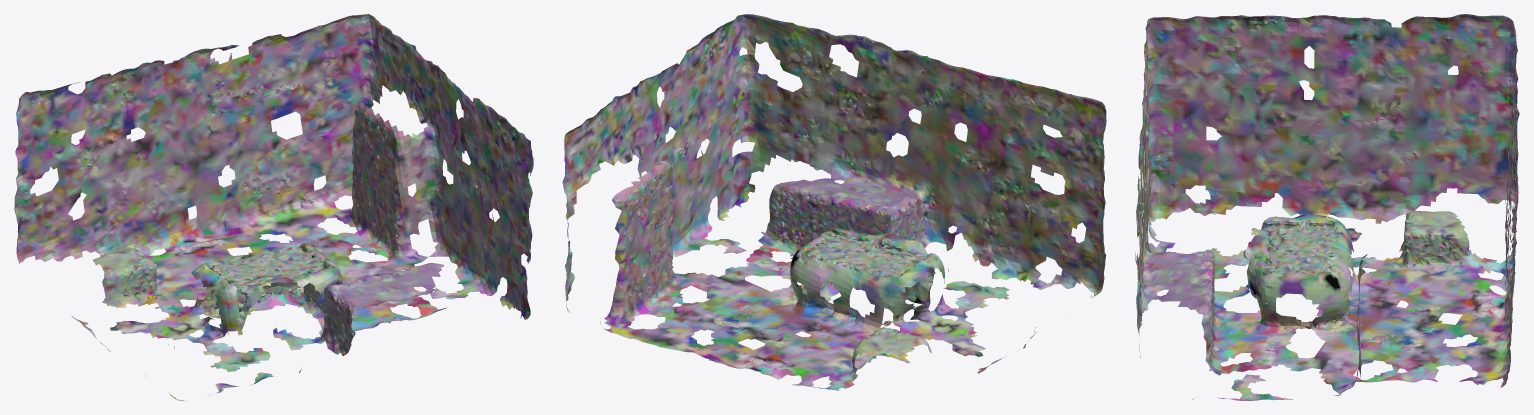
The picture shows the model from 3 angles, left to right: view 1: azimuth 30°, elevation 25°; view 2: azimuth 150°, elevation 25°; view 3: azimuth 270°, elevation 25°; orthographic projection. The views are drawn at different scales.
Visible parts, largest first — view 1: geometry_0; view 2: geometry_0; view 3: geometry_0.
Boxes of the visible parts, <box> form: geometry_0: <box>14,14,533,400</box>; geometry_0: <box>562,14,1106,390</box>; geometry_0: <box>1135,14,1519,400</box>.
Bounding box in the file's own units: 6 × 3.11 × 5.06.
